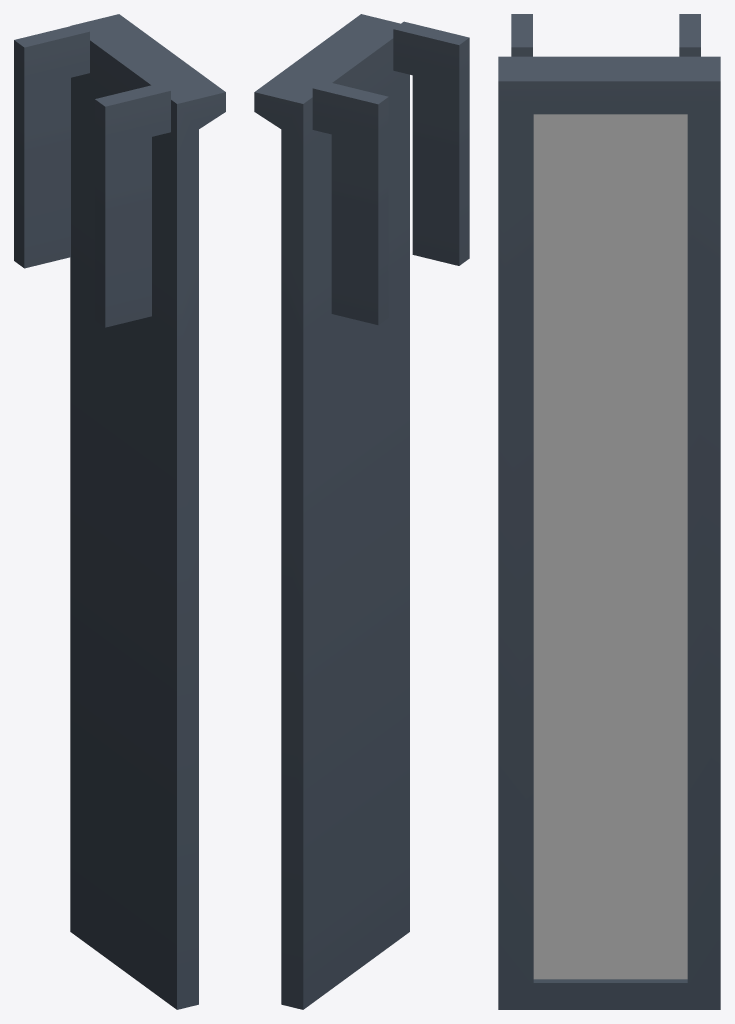
The model's file is SignProp_2_A_6.fbx.
3 views of the same model, side by side, from view 1: azimuth 30°, elevation 25°; view 2: azimuth 150°, elevation 25°; view 3: azimuth 270°, elevation 25° (orthographic). The views are drawn at different scales.
Parts seen in each view (by area): view 1: SignProp_2_A_6; view 2: SignProp_2_A_6; view 3: SignProp_2_A_6.
Part boxes in pixels (left/top/right/bottom): SignProp_2_A_6: left=14, top=14, right=225, bottom=1009; SignProp_2_A_6: left=254, top=14, right=469, bottom=1009; SignProp_2_A_6: left=498, top=14, right=720, bottom=1009.
Size of the model in its own units: 20.96 by 160 by 33.84.
